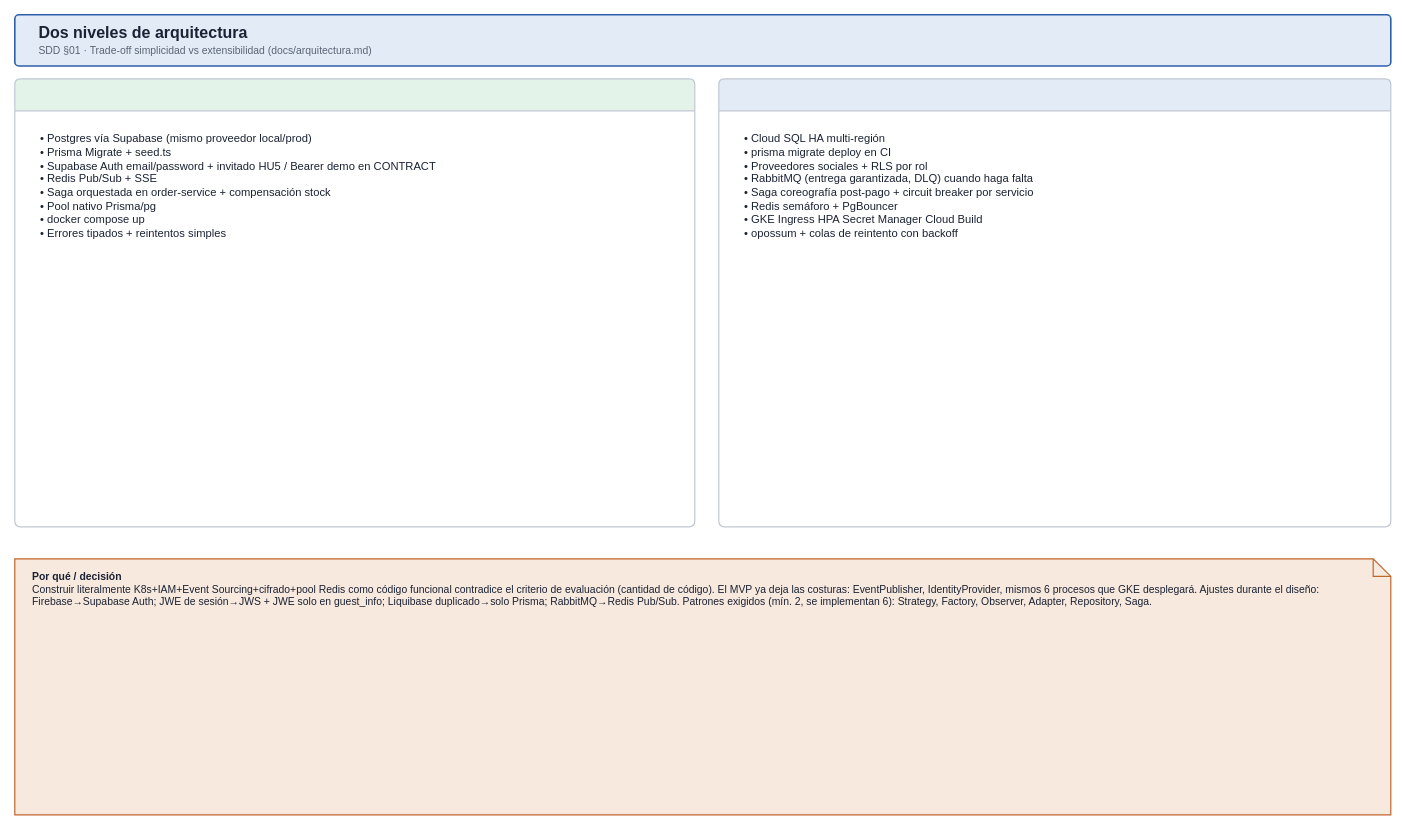
The diagram is 1405 pixels wide and 829 high, and some of its shapes have lost their labels. Each missing label, with the box of its shape:
Nivel Enterprise — diseñado, interfaces en el MVP, infra no levantada: (718, 78, 1391, 527)
Nivel MVP — se codifica, ≥80% cobertura, se demuestra: (14, 78, 695, 527)
